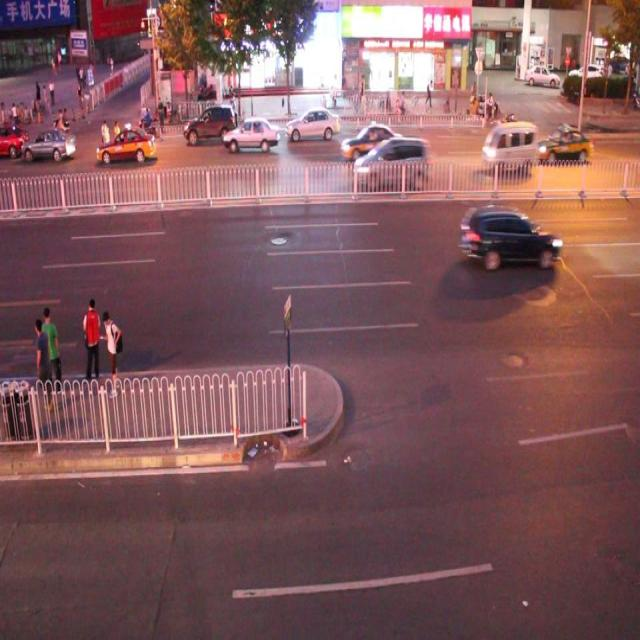car: (462, 206, 560, 269), (355, 136, 426, 190), (536, 124, 592, 166), (96, 126, 155, 164), (223, 115, 280, 154), (339, 124, 402, 159), (182, 105, 238, 144), (284, 105, 338, 140), (21, 127, 76, 161), (1, 123, 27, 158)
truck: (482, 122, 535, 173)
